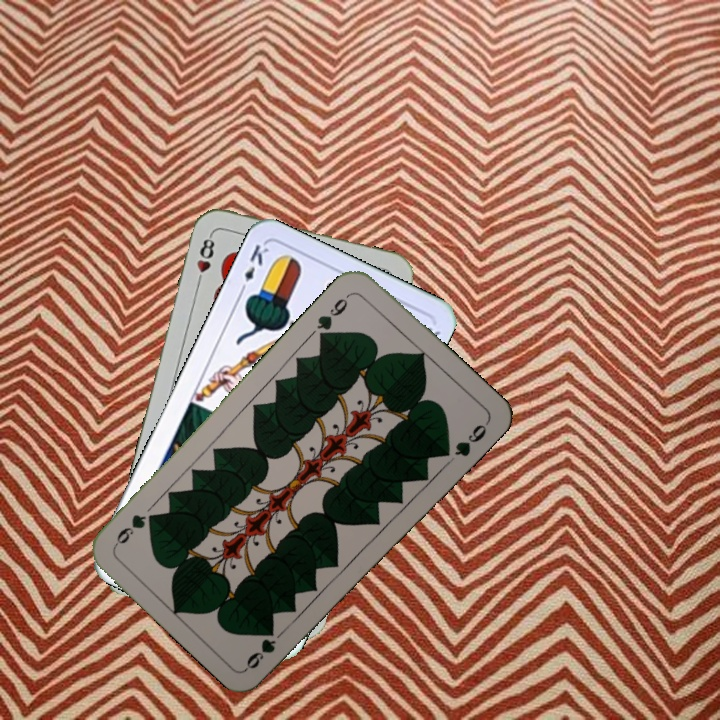EK: (235, 240, 272, 297)
G9: (312, 289, 354, 342), (242, 635, 279, 672)
H8: (192, 230, 218, 289)
